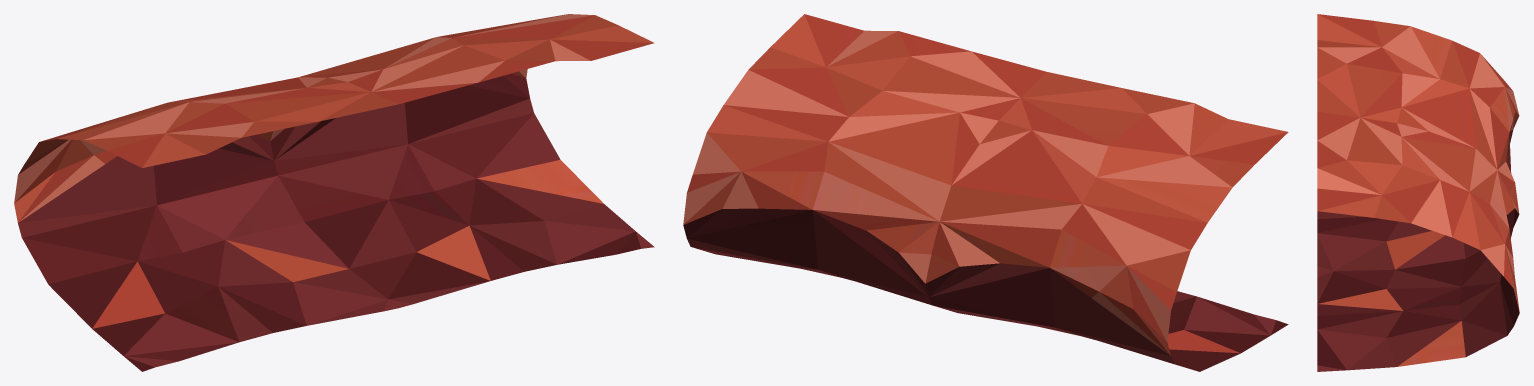
3 renders of one model, left to right at view 1: azimuth 30°, elevation 25°; view 2: azimuth 150°, elevation 25°; view 3: azimuth 270°, elevation 25°, orthographic. The views are drawn at different scales.
Visible parts, largest first — view 1: polySurface24; view 2: polySurface24; view 3: polySurface24.
Boxes of the visible parts, box(x1,y1,x2,y2) form: polySurface24: box(14, 14, 654, 371); polySurface24: box(683, 14, 1288, 371); polySurface24: box(1317, 14, 1519, 371).
Size of the model in its own units: 800 by 314 by 347.
